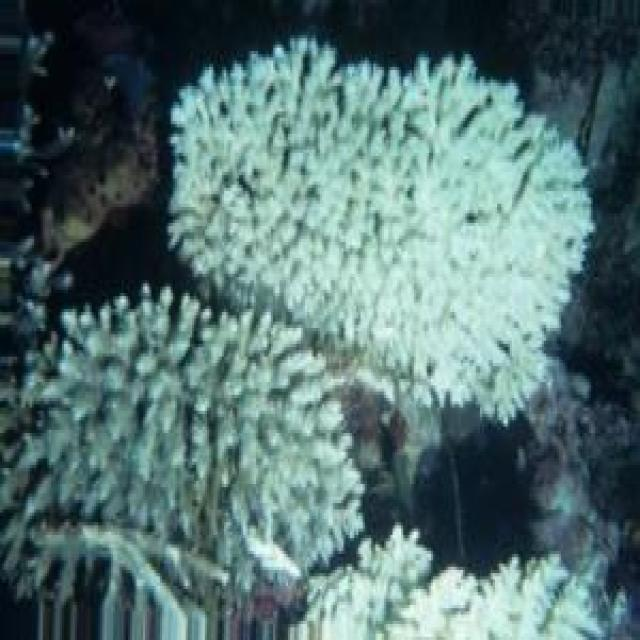bleached coral: (169, 39, 566, 410), (24, 289, 364, 570), (294, 526, 601, 639)
